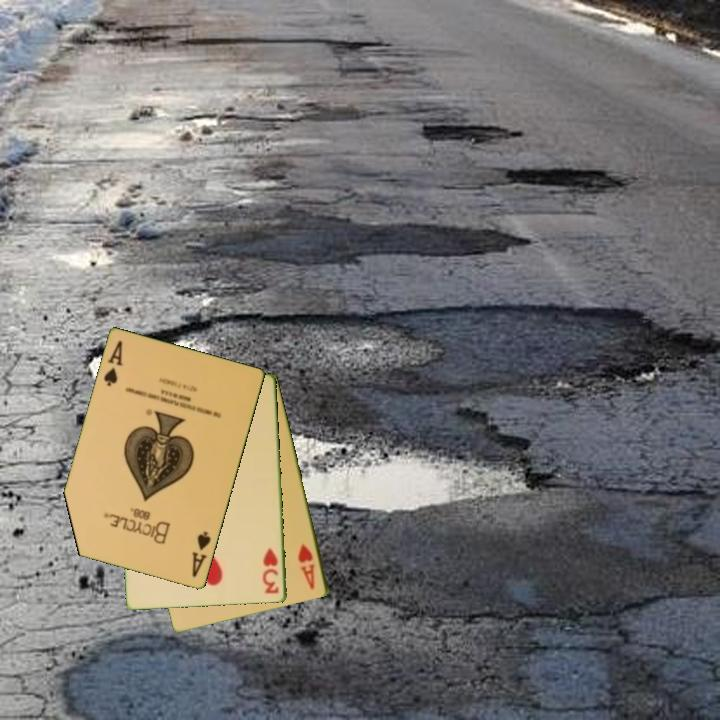3h: (260, 545, 282, 597)
Ah: (295, 540, 318, 592)
As: (188, 528, 214, 581), (100, 337, 126, 390)
